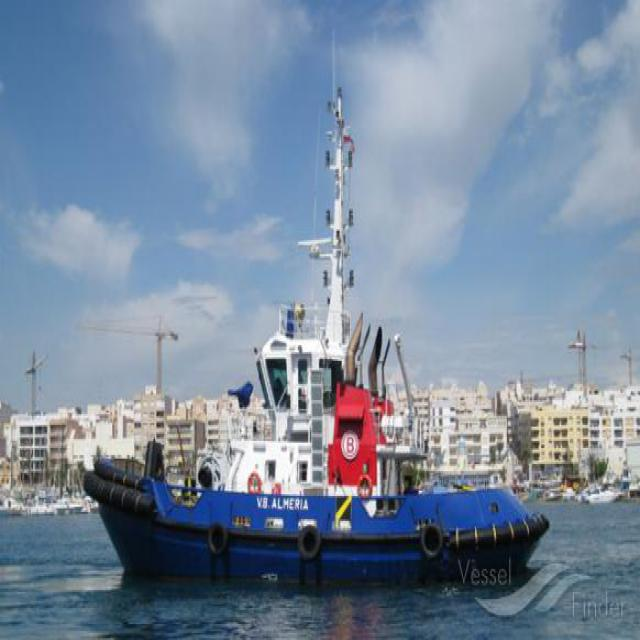tugboat: (83, 316, 546, 586)
